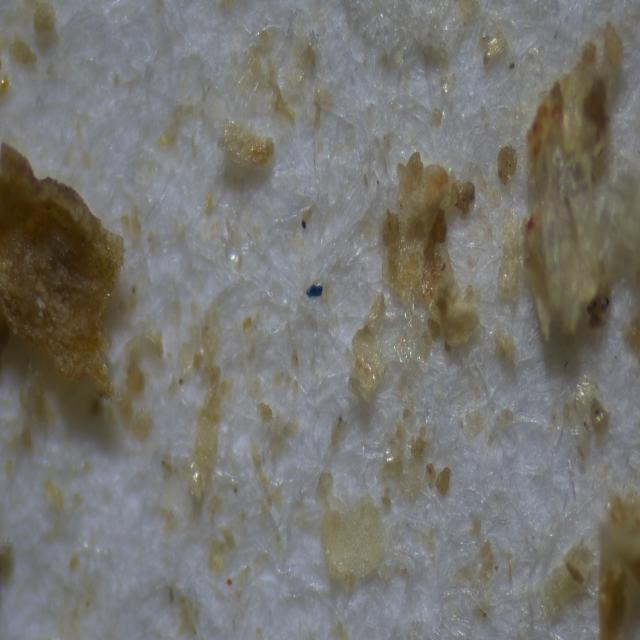microplastic: (299, 273, 336, 308)
